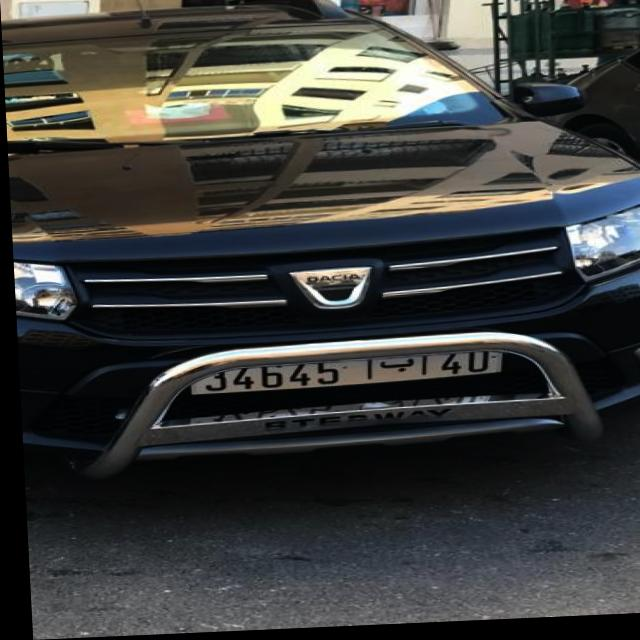License-Plate: (185, 355, 500, 396)
